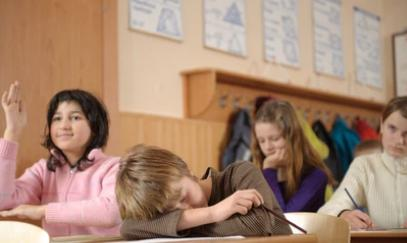sleep: (109, 145, 294, 238)
study: (0, 81, 121, 234), (309, 96, 407, 233)
